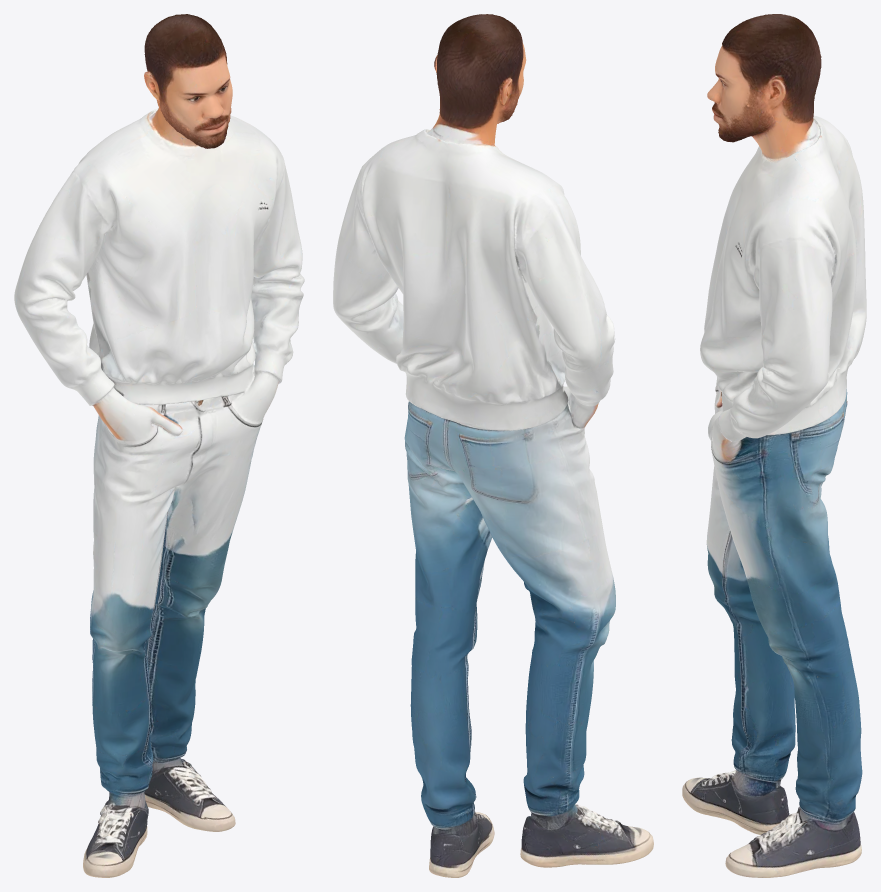
Rendered from person_showcase.glb.
3 views of the same model, side by side, from view 1: azimuth 30°, elevation 25°; view 2: azimuth 150°, elevation 25°; view 3: azimuth 270°, elevation 25° (orthographic). The views are drawn at different scales.
Bounding box in the file's own units: 0.666 × 1.9 × 0.3774.
1 material, 1 textured.
